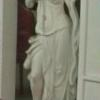Statue: (15, 0, 89, 100)
